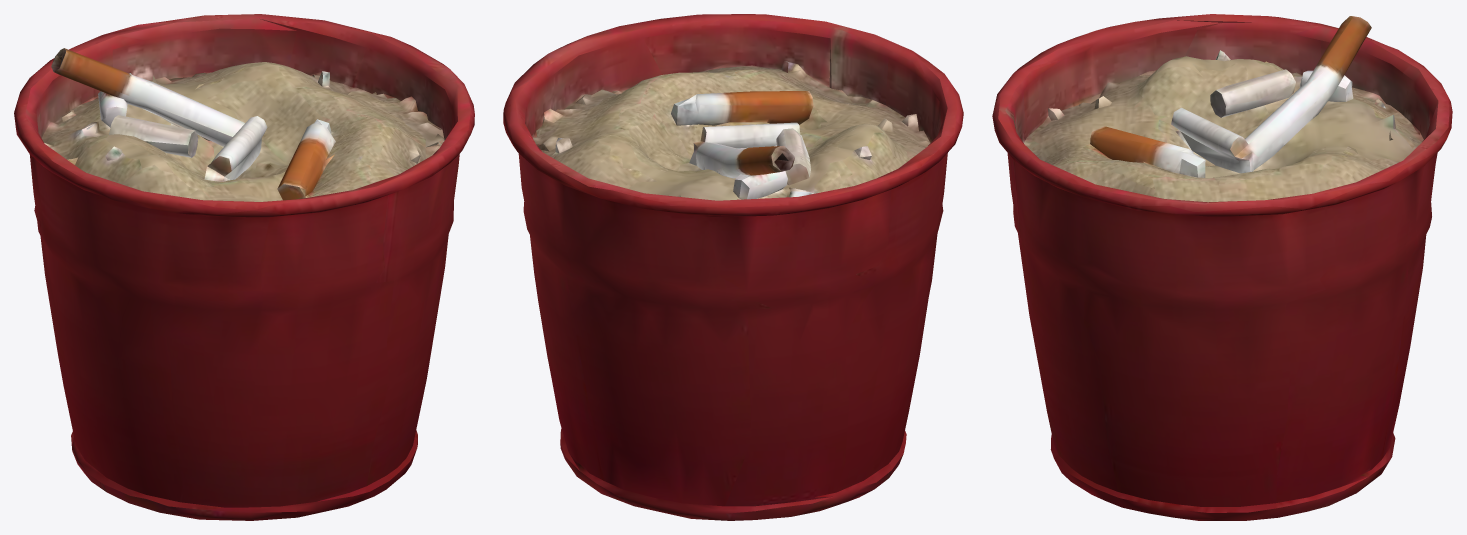
File: redcan.glb
The picture shows the model from 3 angles, left to right: view 1: azimuth 30°, elevation 25°; view 2: azimuth 150°, elevation 25°; view 3: azimuth 270°, elevation 25°; orthographic projection.
Parts seen in each view (by area): view 1: redcan; view 2: redcan; view 3: redcan.
Part boxes in pixels (bbox=[...]): redcan: bbox=[14, 14, 474, 520]; redcan: bbox=[503, 14, 963, 520]; redcan: bbox=[992, 14, 1452, 520].
Bounding box in the file's own units: 0.4393 × 0.4 × 0.4398.
1 material, 1 textured.
